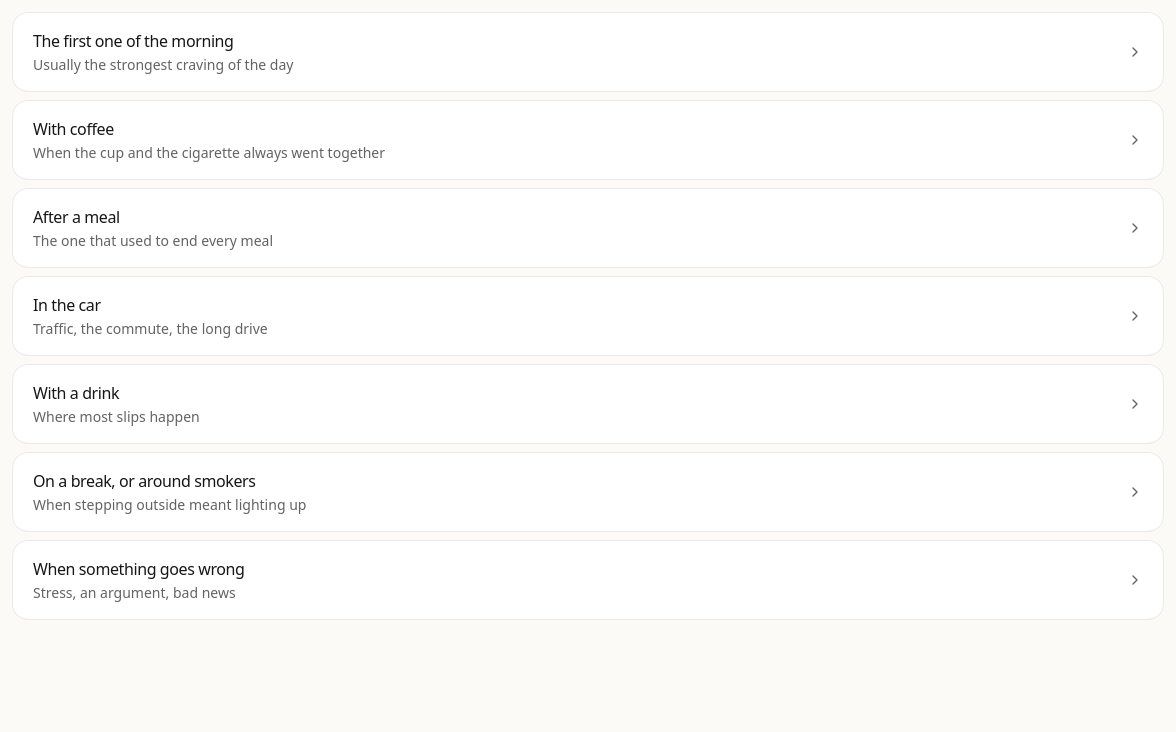
Test: UrgeResistance › tracks completed steps
Click the text "With coffee" at [73, 129], box [33,118,114,140]
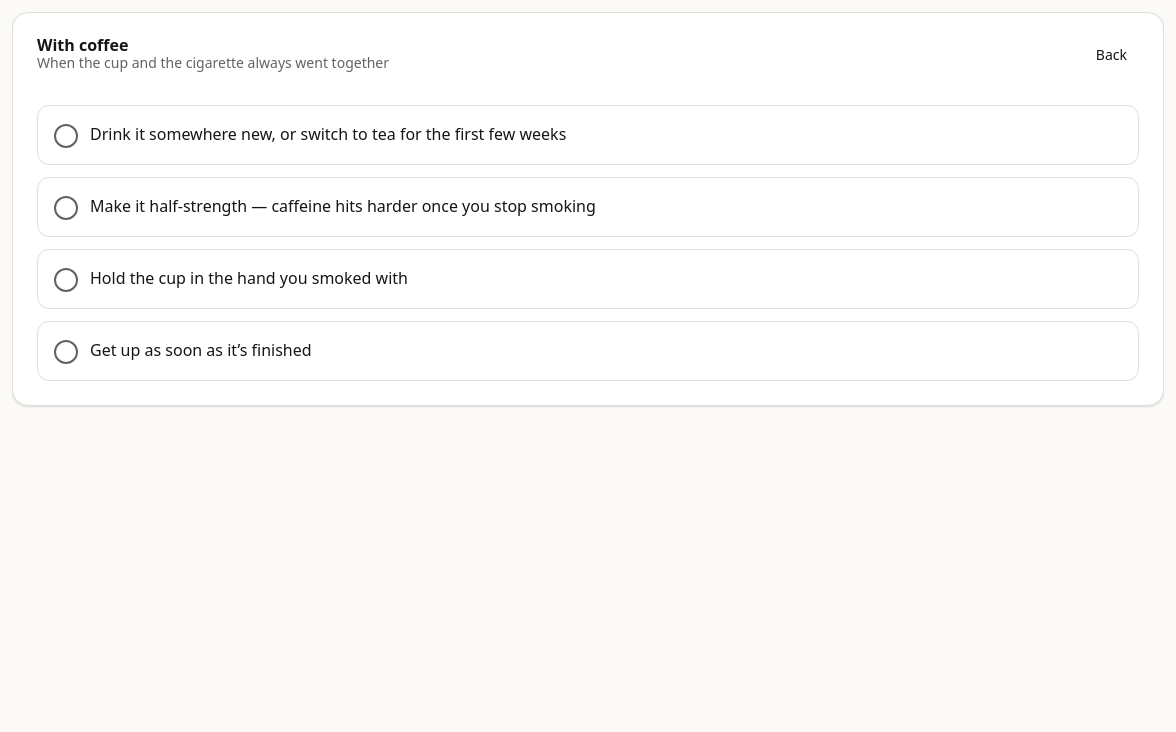
Click the 3rd button at [588, 207], box [37,177,1139,237]
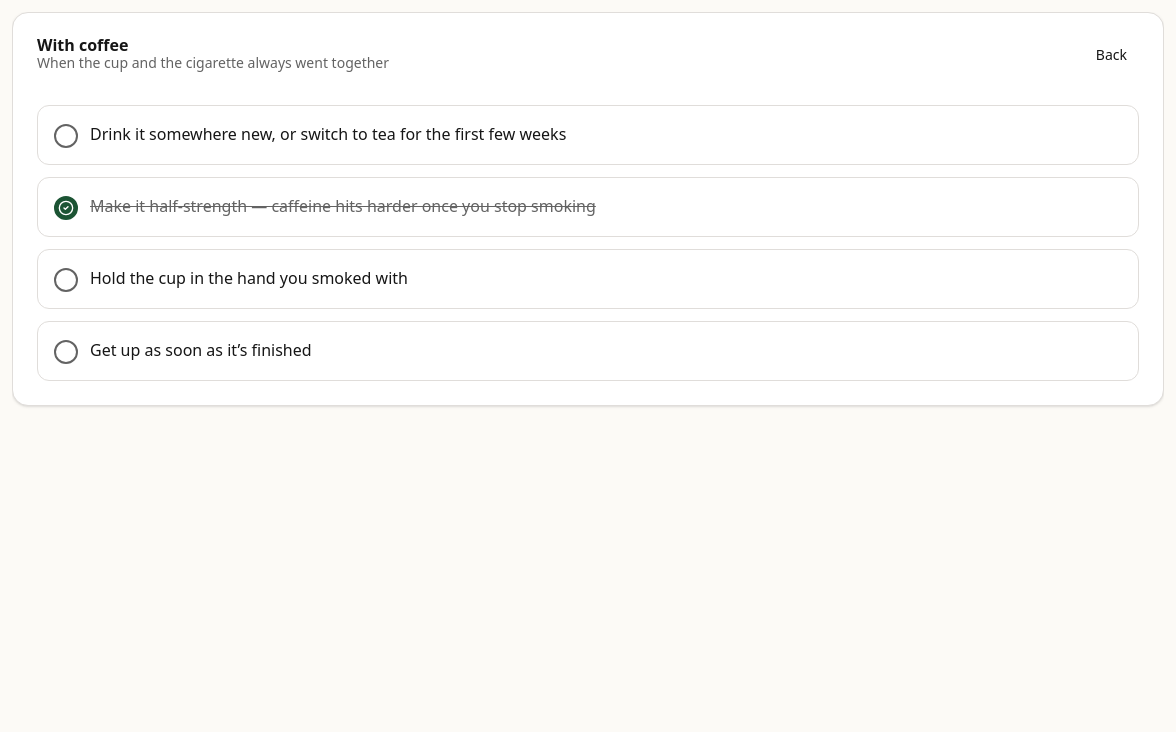
Result: the text with class "line-through" is shown at [90,195,596,217]
